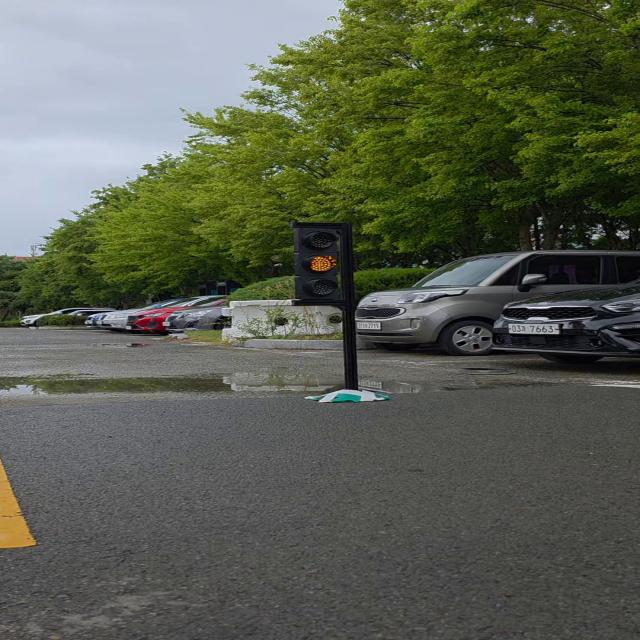yellow: (286, 217, 354, 311)
